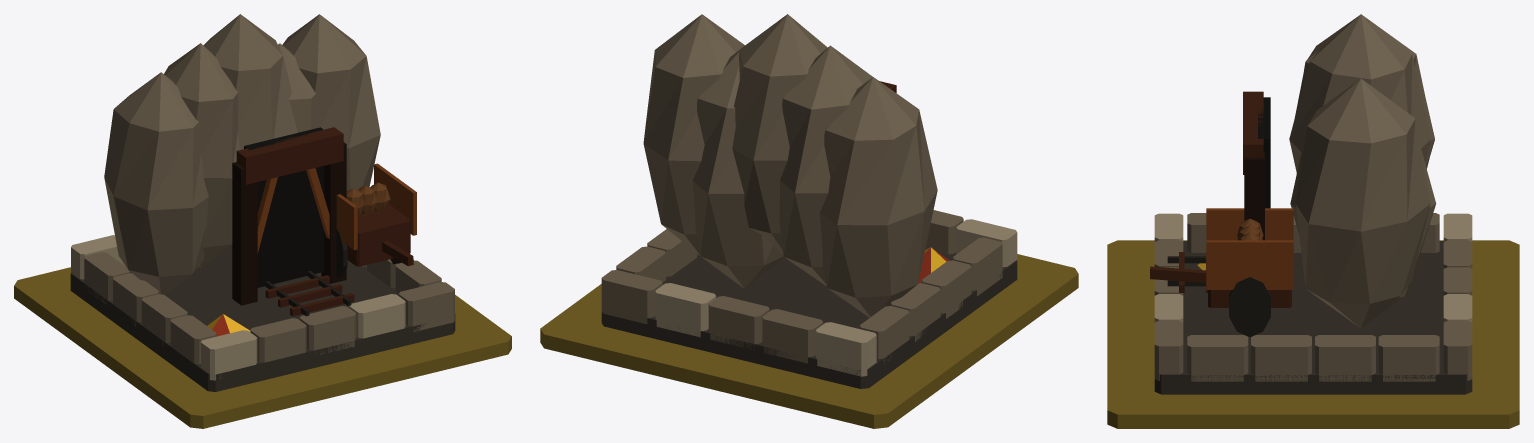
File: mine_t2.glb
3 views of the same model, side by side, from view 1: azimuth 30°, elevation 25°; view 2: azimuth 150°, elevation 25°; view 3: azimuth 270°, elevation 25° (orthographic). The views are drawn at different scales.
Parts seen in each view (by area): view 1: MMR | mine | T02 Architecture.001, MMR | mine | Tier 02 Ground.001, MMR | mine | T02 Autumn Dressing.001; view 2: MMR | mine | T02 Architecture.001, MMR | mine | Tier 02 Ground.001, MMR | mine | T02 Autumn Dressing.001; view 3: MMR | mine | T02 Architecture.001, MMR | mine | Tier 02 Ground.001.
Part boxes in pixels (x1,y1,x2,y2): MMR | mine | T02 Architecture.001: (70,14,455,391); MMR | mine | Tier 02 Ground.001: (14,267,511,428); MMR | mine | T02 Autumn Dressing.001: (207,314,250,336); MMR | mine | T02 Architecture.001: (601,14,1017,388); MMR | mine | Tier 02 Ground.001: (540,254,1078,428); MMR | mine | T02 Autumn Dressing.001: (918,247,949,283); MMR | mine | T02 Architecture.001: (1150,14,1472,394); MMR | mine | Tier 02 Ground.001: (1107,240,1519,428).
Bounding box in the file's own units: 1.3 × 1.14 × 1.3.
1 material, 1 textured.
